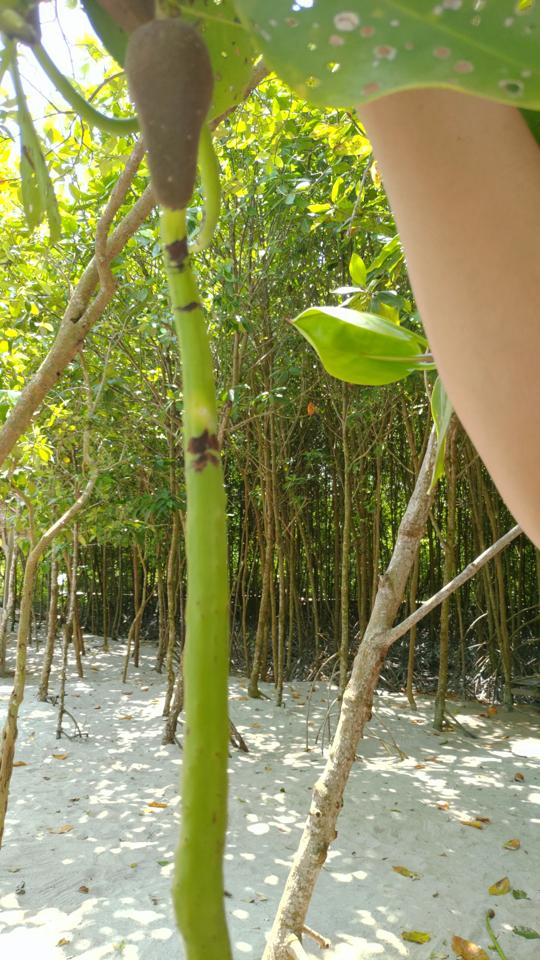setengah matang: (100, 1, 257, 953)
